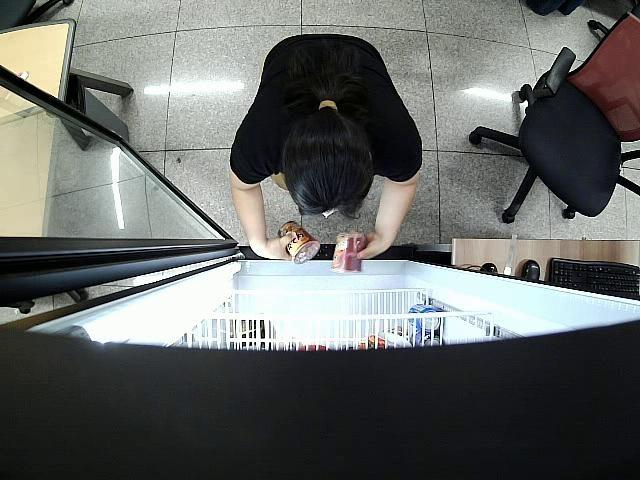06_nuguri_S: (276, 222, 321, 266), (330, 228, 364, 278)
